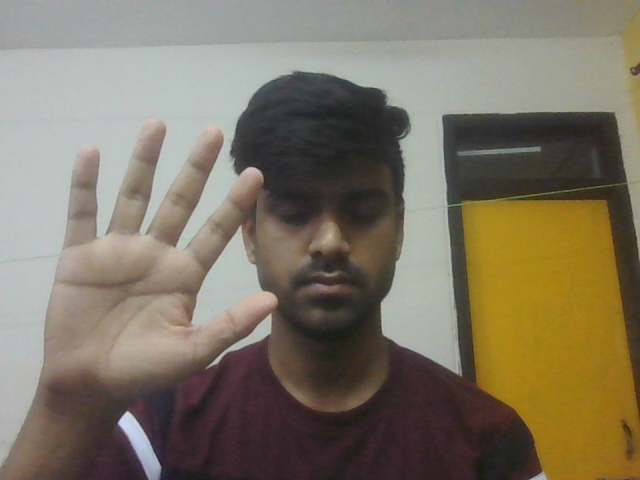hello: (35, 118, 294, 418)
